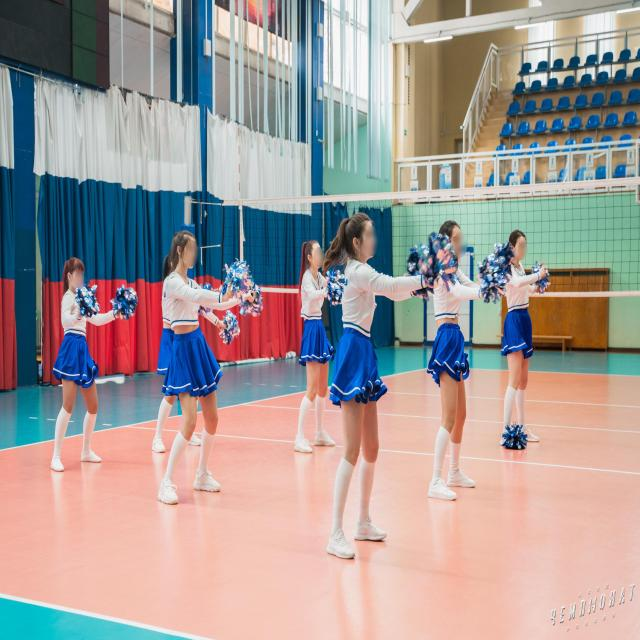Person: (154, 225, 242, 522), (326, 208, 398, 568), (418, 211, 482, 526), (54, 256, 114, 484), (288, 231, 336, 466), (498, 221, 542, 460)
